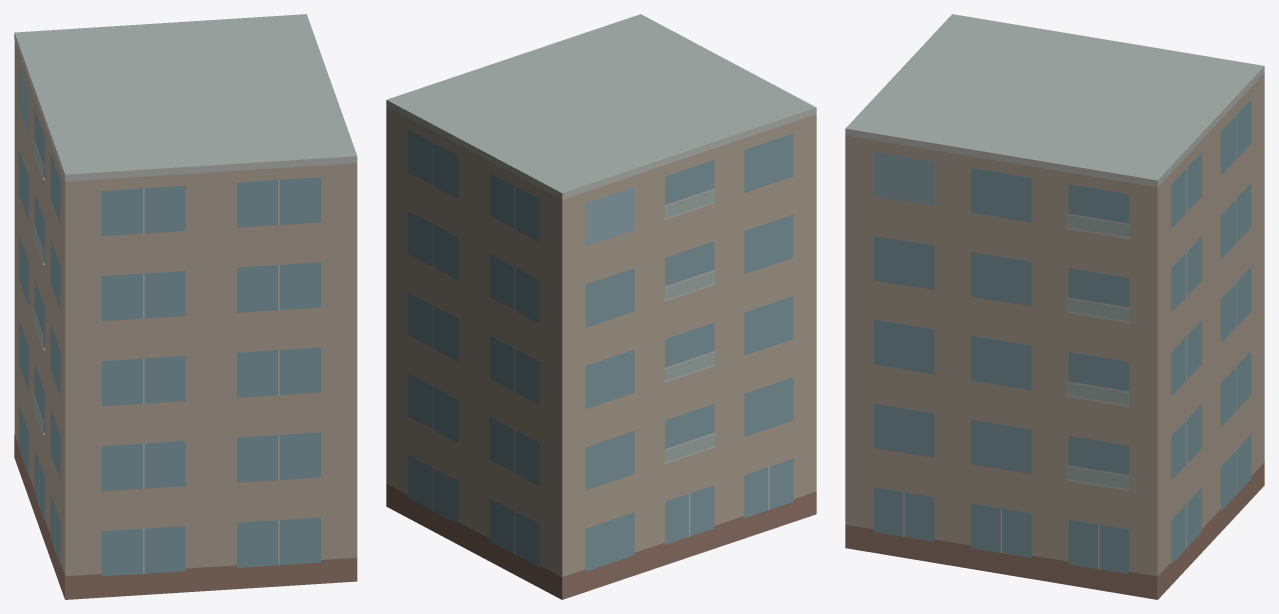
Rendered from survey-upis-32875966.glb.
3 views of the same model, side by side, from view 1: azimuth 30°, elevation 25°; view 2: azimuth 150°, elevation 25°; view 3: azimuth 270°, elevation 25° (orthographic). The views are drawn at different scales.
Visible parts, largest first — view 1: survey-upis-32875966.tmp; view 2: survey-upis-32875966.tmp; view 3: survey-upis-32875966.tmp.
Boxes of the visible parts, <box> form: survey-upis-32875966.tmp: <box>14,14,357,599</box>; survey-upis-32875966.tmp: <box>386,14,816,599</box>; survey-upis-32875966.tmp: <box>845,14,1264,599</box>.
Bounding box in the file's own units: 12.77 × 15 × 13.6.
